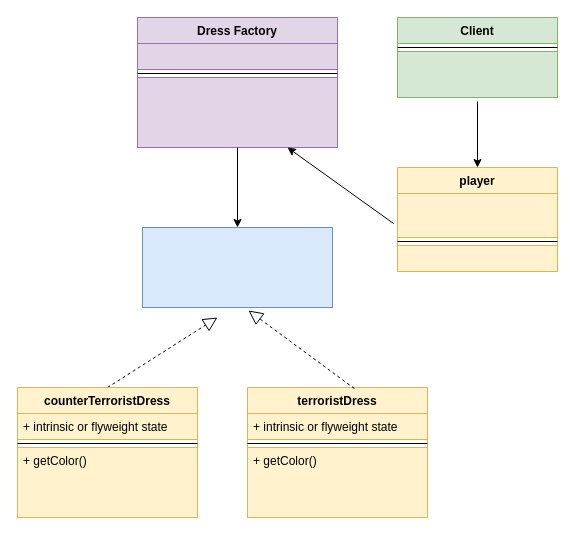
Image size: 575x538. Some labels were removed from this diagram. Each missing label, with the centre of its shape:
"+ getOrCreateFlyweightObject()" belongs at (237,112).
"+ Map [string]dress" belongs at (237,56).
"+ operation()" belongs at (477,258).
"+extrinsic state +intrinsic state or flyweight" belongs at (477,215).
"<<Interface>> Dress + getColor()" belongs at (237,267).
